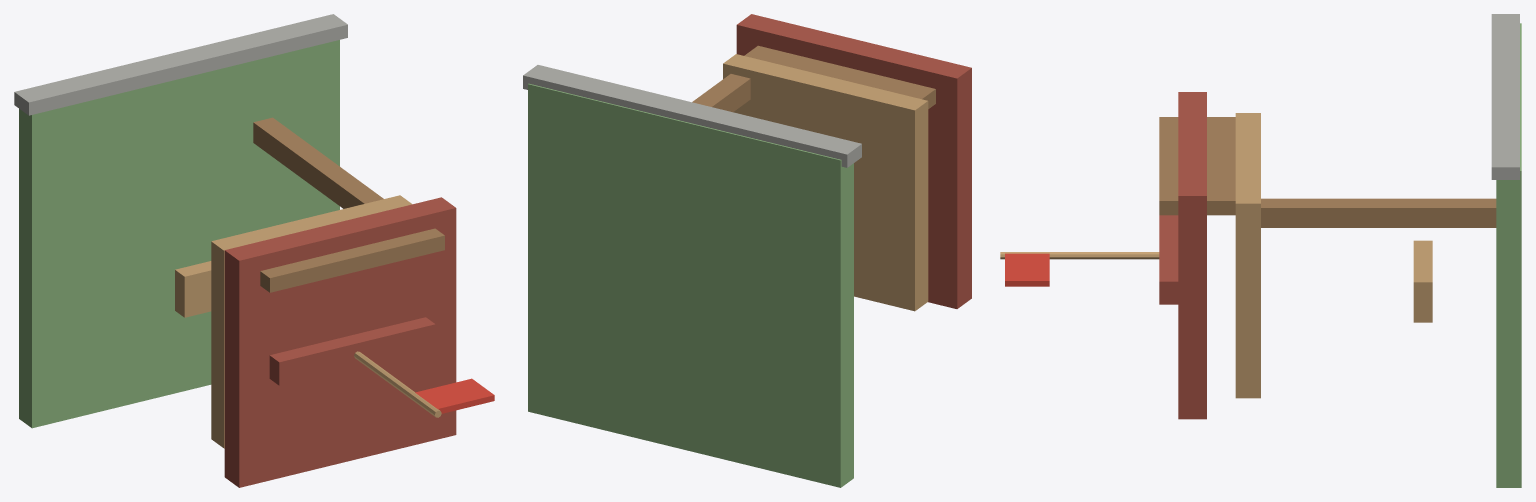
File: 05_ThapCanh.glb
3 renders of one model, left to right at view 1: azimuth 30°, elevation 25°; view 2: azimuth 150°, elevation 25°; view 3: azimuth 270°, elevation 25°, orthographic. The views are drawn at different scales.
Parts seen in each view (by area): view 1: base, roof, edge, ridge, platform, rail, support, step, flag, pole; view 2: base, platform, roof, edge, rail, support; view 3: roof, base, platform, support, rail, edge, ridge, step, flag, pole.
Part boxes in pixels (<box>): base: <box>19,40,339,428</box>; roof: <box>224,197,456,487</box>; edge: <box>14,14,347,115</box>; ridge: <box>269,317,435,385</box>; platform: <box>211,195,411,448</box>; rail: <box>260,228,444,292</box>; support: <box>253,117,383,208</box>; step: <box>175,261,211,317</box>; flag: <box>415,378,494,413</box>; pole: <box>354,351,441,417</box>; base: <box>528,83,853,487</box>; platform: <box>723,54,928,311</box>; roof: <box>736,14,971,308</box>; edge: <box>523,65,861,167</box>; rail: <box>744,45,935,108</box>; support: <box>692,74,750,112</box>; roof: <box>1178,92,1206,419</box>; base: <box>1496,23,1521,487</box>; platform: <box>1235,113,1260,398</box>; support: <box>1261,198,1496,227</box>; rail: <box>1159,117,1235,215</box>; edge: <box>1491,14,1519,179</box>; ridge: <box>1159,215,1178,304</box>; step: <box>1413,240,1432,322</box>; flag: <box>1005,253,1049,286</box>; pole: <box>1000,252,1159,259</box>.
Size of the model in its own units: 2.28 by 2.25 by 3.28.
